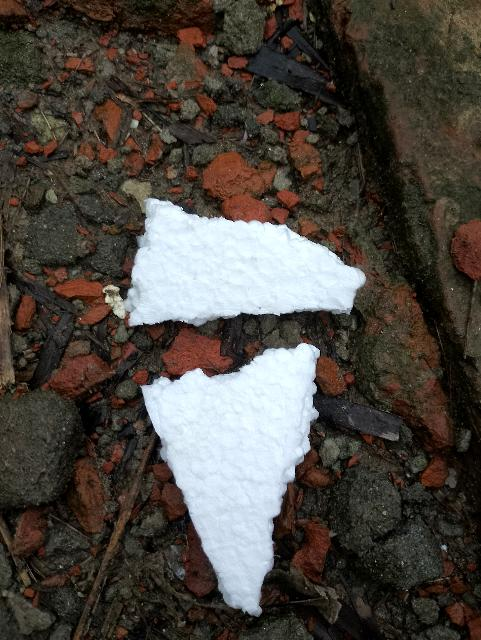cocksheet: (140, 345, 345, 611), (135, 197, 369, 350)
